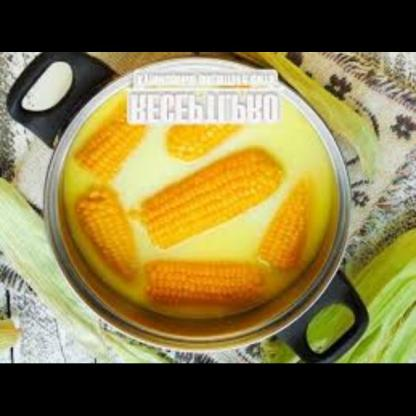corn: (138, 150, 286, 249), (61, 94, 161, 185), (136, 255, 272, 310), (251, 174, 318, 274), (70, 183, 133, 286), (151, 118, 251, 165)
